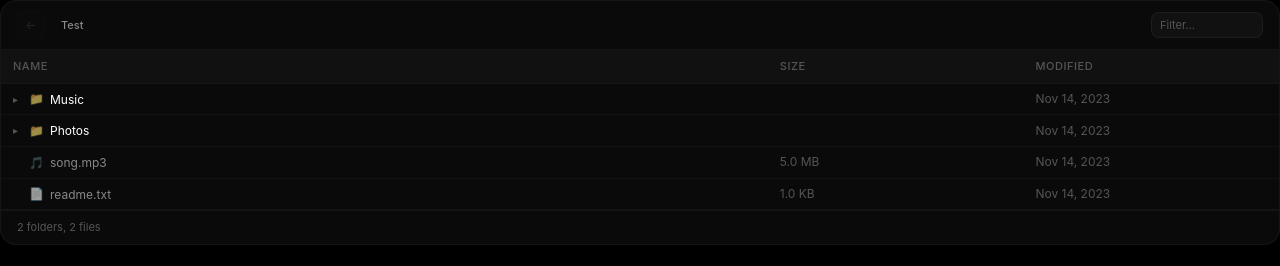
Test: FileExplorer › shows selected count in footer when items are selected
The width and height of the screenshot is (1280, 266).
Click the text "song.mp3" at (78, 162), box [50,155,107,170]
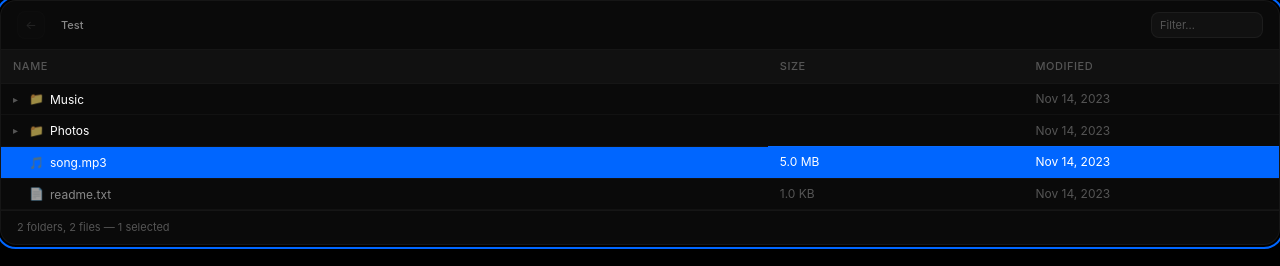
Result: the text "2 folders, 2 files — 1 selected" is shown at [1,210,1279,244]
